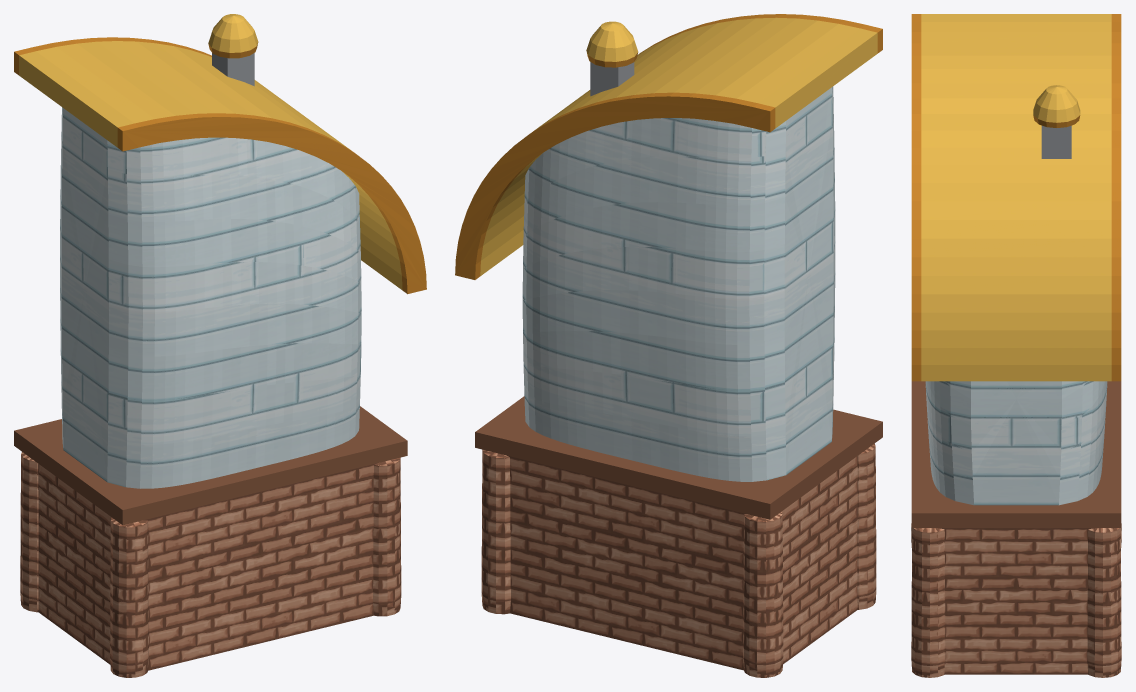
Rendered from earth_mamas.glb.
3 renders of one model, left to right at view 1: azimuth 30°, elevation 25°; view 2: azimuth 150°, elevation 25°; view 3: azimuth 270°, elevation 25°, orthographic. The views are drawn at different scales.
Visible parts, largest first — view 1: earth_mamas_upper_shell, earth_mamas_gf_shell, earth_mamas_roof, earth_mamas_corner_pillars, earth_mamas_cornice, earth_mamas_chimney; view 2: earth_mamas_upper_shell, earth_mamas_gf_shell, earth_mamas_roof, earth_mamas_corner_pillars, earth_mamas_cornice, earth_mamas_chimney; view 3: earth_mamas_roof, earth_mamas_upper_shell, earth_mamas_gf_shell, earth_mamas_corner_pillars, earth_mamas_cornice, earth_mamas_chimney.
Part boxes in pixels (x1,y1,x2,y2): earth_mamas_upper_shell: [60, 107, 361, 488]; earth_mamas_gf_shell: [38, 463, 377, 670]; earth_mamas_roof: [14, 37, 426, 294]; earth_mamas_corner_pillars: [20, 452, 401, 677]; earth_mamas_cornice: [14, 406, 407, 525]; earth_mamas_chimney: [208, 14, 258, 86]; earth_mamas_upper_shell: [522, 86, 835, 481]; earth_mamas_gf_shell: [507, 455, 857, 670]; earth_mamas_roof: [455, 14, 882, 279]; earth_mamas_corner_pillars: [481, 443, 876, 677]; earth_mamas_cornice: [475, 396, 882, 519]; earth_mamas_chimney: [586, 21, 638, 96]; earth_mamas_roof: [911, 14, 1121, 381]; earth_mamas_upper_shell: [925, 381, 1107, 505]; earth_mamas_gf_shell: [919, 528, 1113, 674]; earth_mamas_corner_pillars: [911, 523, 1121, 677]; earth_mamas_cornice: [911, 381, 1121, 527]; earth_mamas_chimney: [1033, 85, 1080, 158].
Size of the model in its own units: 6.31 by 11.18 by 3.91.
Materials: 3 (3 with a texture image).
